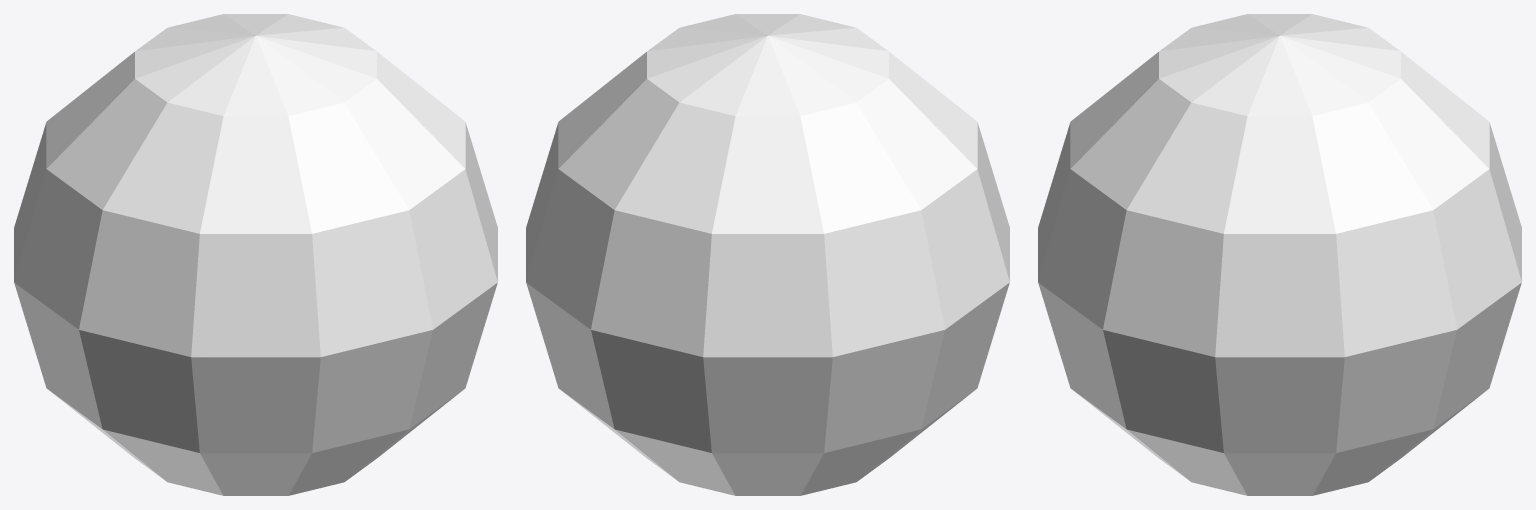
The model's file is PlanetaryDust.dae.
The picture shows the model from 3 angles, left to right: view 1: azimuth 30°, elevation 25°; view 2: azimuth 150°, elevation 25°; view 3: azimuth 270°, elevation 25°; orthographic projection.
Parts seen in each view (by area): view 1: sphere; view 2: sphere; view 3: sphere.
Boxes of the visible parts, x1,y1,x2,y2 form: sphere: [14, 14, 497, 495]; sphere: [526, 14, 1009, 495]; sphere: [1038, 14, 1521, 495].
Bounding box in the file's own units: 0.5625 × 0.5625 × 0.5625.
Materials: 2 (2 with a texture image).
